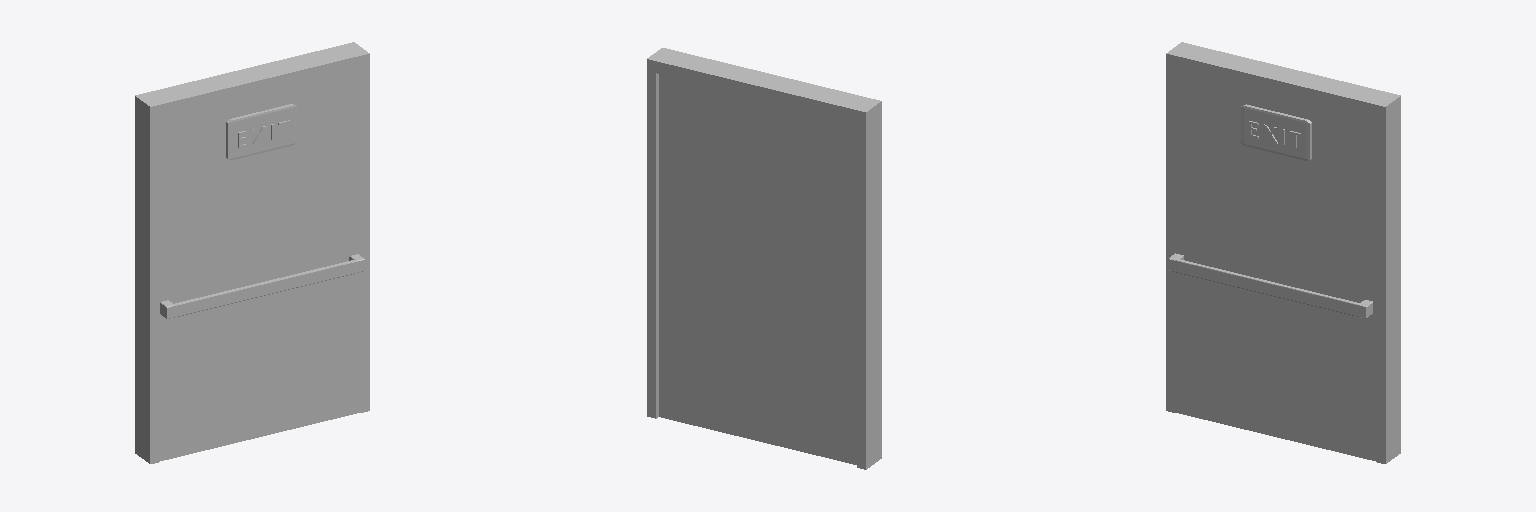
The model's file is door1.obj.
3 renders of one model, left to right at view 1: azimuth 30°, elevation 25°; view 2: azimuth 150°, elevation 25°; view 3: azimuth 330°, elevation 25°, orthographic.
Parts seen in each view (by area): view 1: Part1, Union1, Block2, Block4; view 2: Part1, Union1; view 3: Part1, Union1, Block2, Block4.
Part boxes in pixels (x1,y1,x2,y2): Part1: (160,68,359,460); Union1: (135,42,369,463); Block2: (226,104,297,159); Block4: (165,260,358,318); Part1: (659,74,856,464); Union1: (647,48,881,469); Part1: (1176,68,1375,460); Union1: (1166,42,1400,463); Block2: (1241,104,1311,160); Block4: (1173,259,1359,316).
Size of the model in its own units: 6.21 by 9.67 by 1.13.